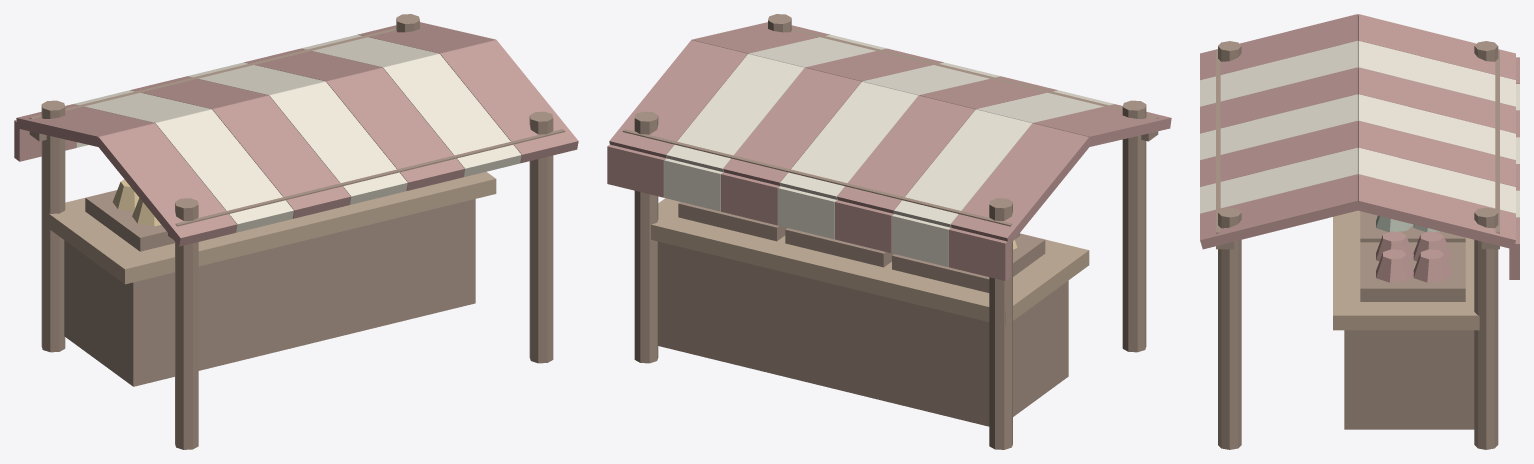
File: bld_market.glb
The picture shows the model from 3 angles, left to right: view 1: azimuth 30°, elevation 25°; view 2: azimuth 150°, elevation 25°; view 3: azimuth 270°, elevation 25°; orthographic projection. The views are drawn at different scales.
Visible parts, largest first — view 1: bld_market_705443, bld_market_935C57, bld_market_E6D9BC, bld_market_917154, bld_market_CBA263; view 2: bld_market_705443, bld_market_935C57, bld_market_E6D9BC, bld_market_917154; view 3: bld_market_935C57, bld_market_705443, bld_market_E6D9BC, bld_market_917154, bld_market_84907A.
Part boxes in pixels (x1,y1,x2,y2): bld_market_705443: (29, 14, 565, 449); bld_market_935C57: (14, 22, 578, 246); bld_market_E6D9BC: (73, 34, 521, 232); bld_market_917154: (48, 171, 496, 284); bld_market_CBA263: (112, 179, 161, 226); bld_market_705443: (622, 14, 1158, 449); bld_market_935C57: (607, 22, 1171, 280); bld_market_E6D9BC: (664, 34, 1114, 266); bld_market_917154: (651, 198, 1089, 325); bld_market_935C57: (1200, 14, 1519, 282); bld_market_705443: (1216, 41, 1499, 449); bld_market_E6D9BC: (1200, 40, 1519, 217); bld_market_917154: (1333, 210, 1493, 330); bld_market_84907A: (1376, 215, 1439, 232).
Bounding box in the file's own units: 0.965 × 0.6127 × 0.6986.
